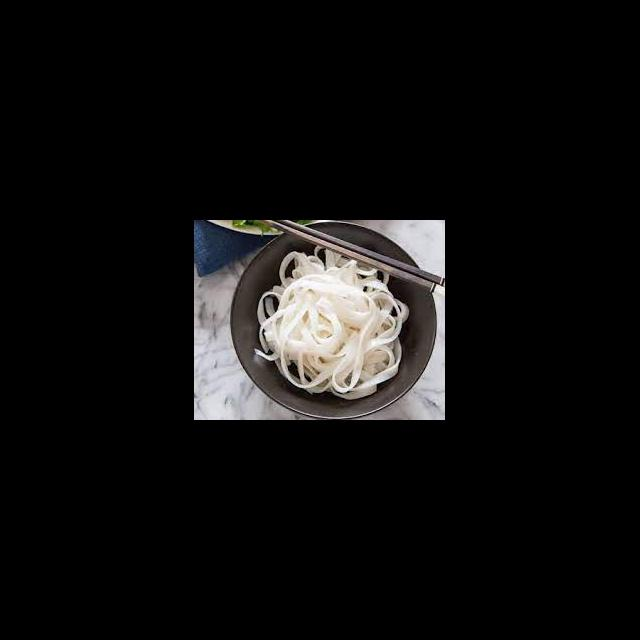noodles: (258, 252, 408, 400)
